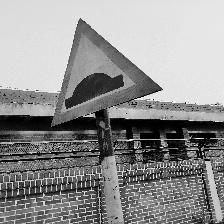Speed-breaker: (51, 18, 163, 126)
